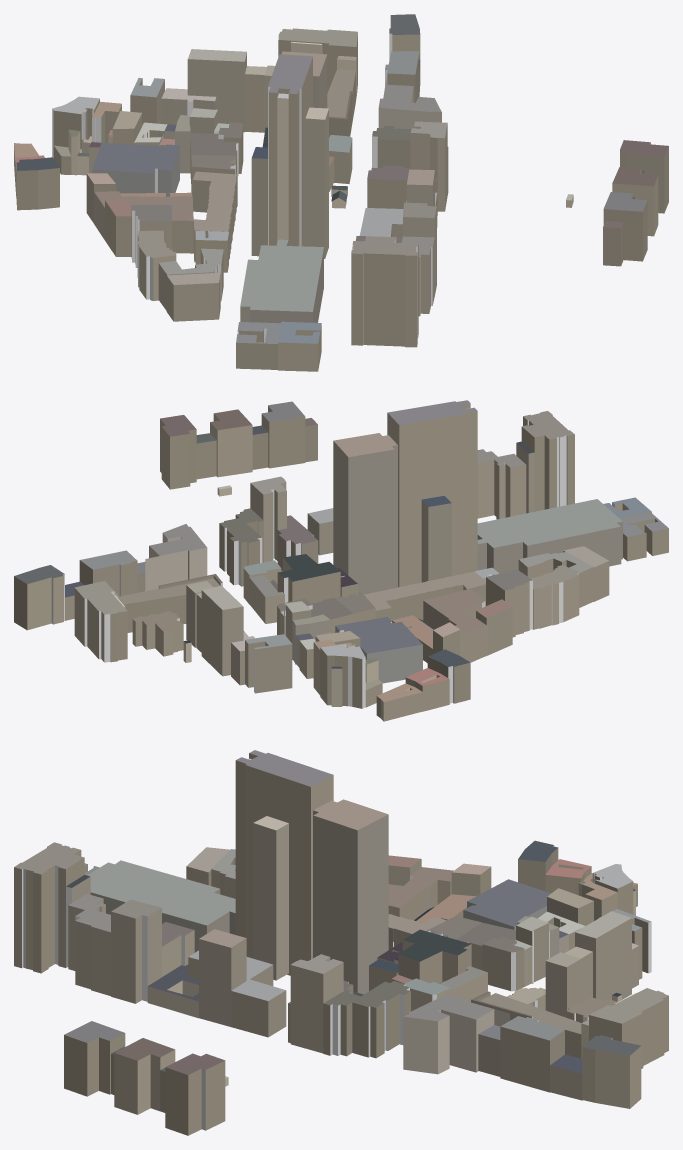
The picture shows the model from 3 angles, top to bottom: view 1: azimuth 30°, elevation 25°; view 2: azimuth 150°, elevation 25°; view 3: azimuth 270°, elevation 25°; orthographic projection. The views are drawn at different scales.
Visible parts, largest first — view 1: tuile; view 2: tuile; view 3: tuile.
Boxes of the visible parts, box(x1,y1,x2,y2) form: tuile: box(14, 14, 668, 371); tuile: box(14, 400, 668, 721); tuile: box(14, 750, 668, 1135).
Bounding box in the file's own units: 256 × 92.93 × 274.
